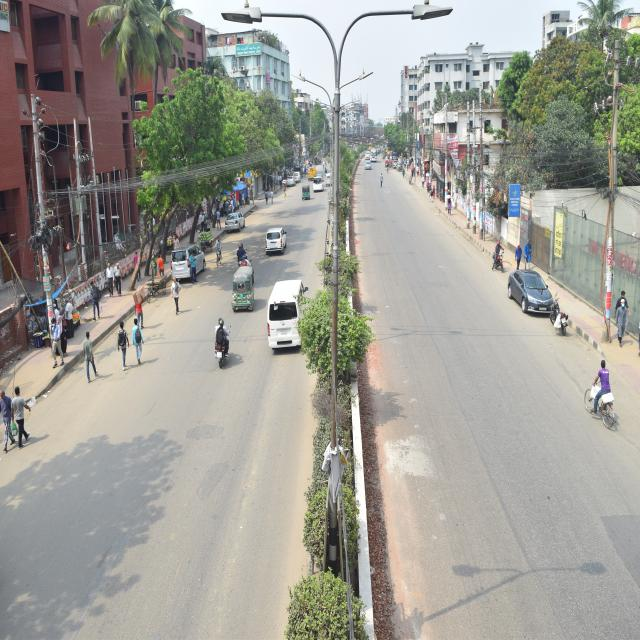car: (505, 261, 556, 322), (225, 201, 248, 244), (307, 171, 325, 199), (282, 169, 296, 187), (364, 154, 374, 170)
microbus: (262, 272, 316, 364), (166, 247, 209, 281), (260, 222, 290, 261)
motorbike: (542, 286, 576, 346), (487, 239, 506, 276)
